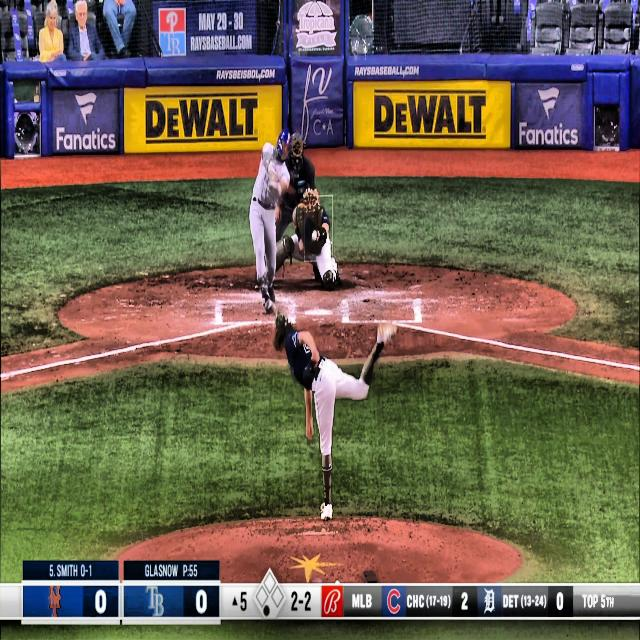baseball: (310, 228, 318, 244)
